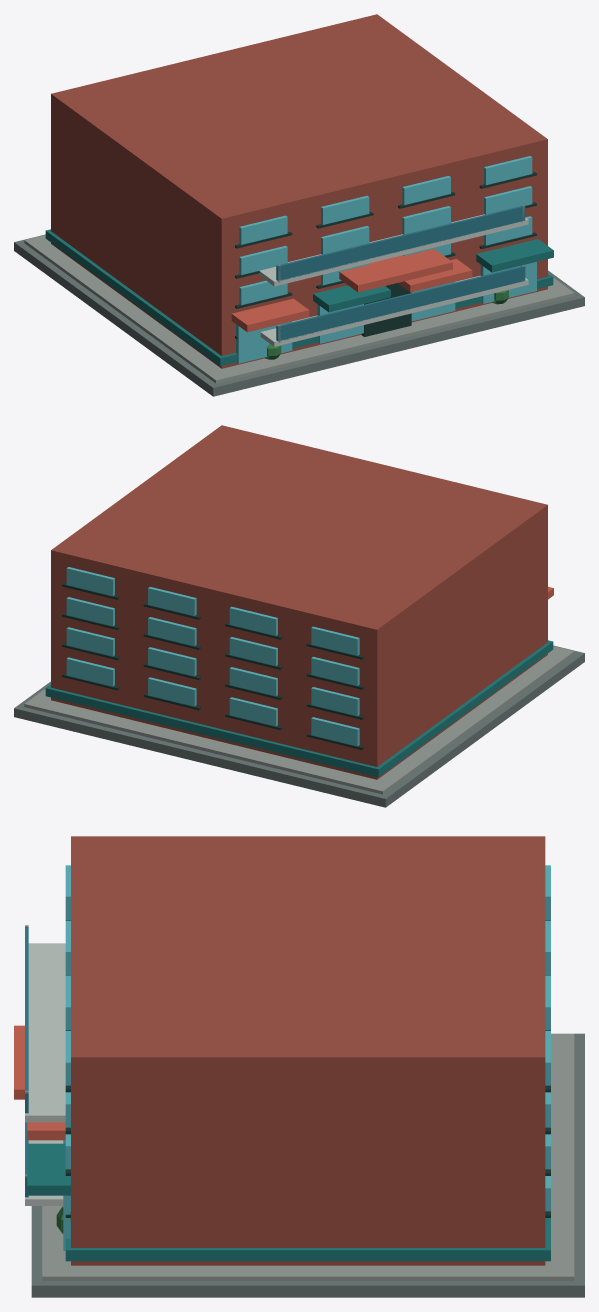
The model's file is mixed_use_lv1.glb.
3 renders of one model, top to bottom at view 1: azimuth 30°, elevation 25°; view 2: azimuth 150°, elevation 25°; view 3: azimuth 270°, elevation 25°, orthographic. The views are drawn at different scales.
Parts seen in each view (by area): view 1: rough, glossy; view 2: rough, glossy; view 3: rough, glossy.
Boxes of the visible parts, bbox=[...] form: rough: bbox=[14, 14, 584, 396]; glossy: bbox=[236, 156, 536, 363]; rough: bbox=[14, 425, 584, 807]; glossy: bbox=[66, 567, 359, 746]; rough: bbox=[14, 836, 584, 1297]; glossy: bbox=[25, 865, 550, 1250].
Size of the model in its own units: 9.8 by 4.08 by 9.39.
